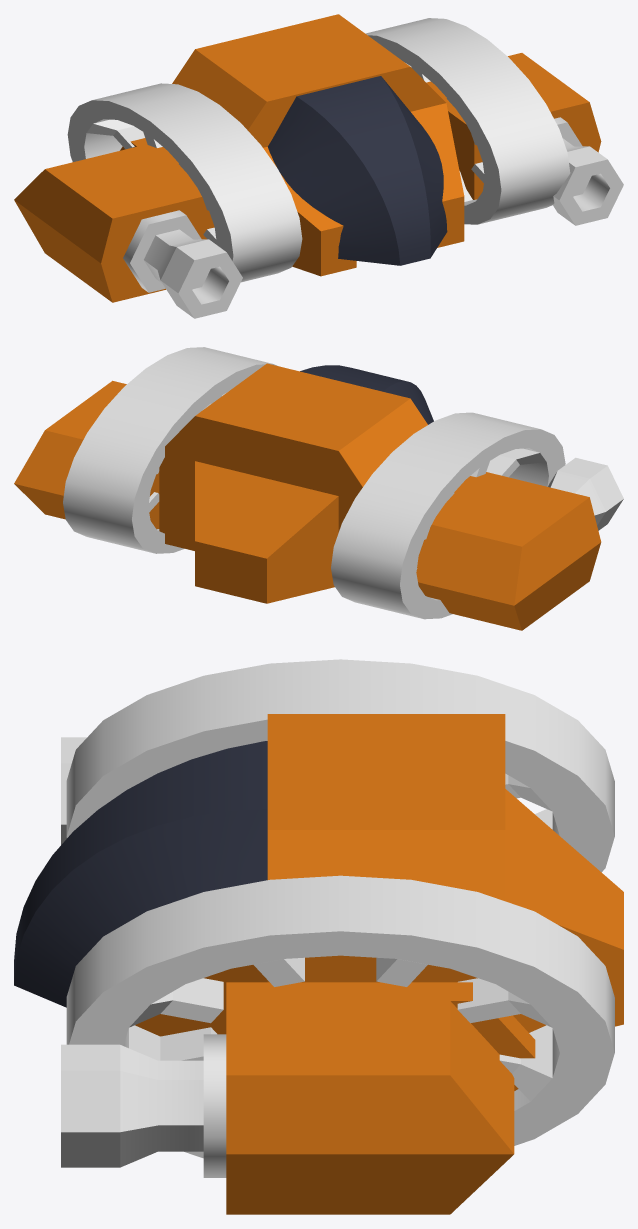
The model's file is flying_02_05.obj.
The picture shows the model from 3 angles, top to bottom: view 1: azimuth 30°, elevation 25°; view 2: azimuth 150°, elevation 25°; view 3: azimuth 270°, elevation 25°; orthographic projection. The views are drawn at different scales.
Visible parts, largest first — view 1: mergedBlocks; view 2: mergedBlocks; view 3: mergedBlocks.
Part boxes in pixels (x1,y1,x2,y2): mergedBlocks: (14,14,623,318); mergedBlocks: (14,347,623,630); mergedBlocks: (14,659,623,1214).
Bounding box in the file's own units: 2.09 × 0.6401 × 1.34.
